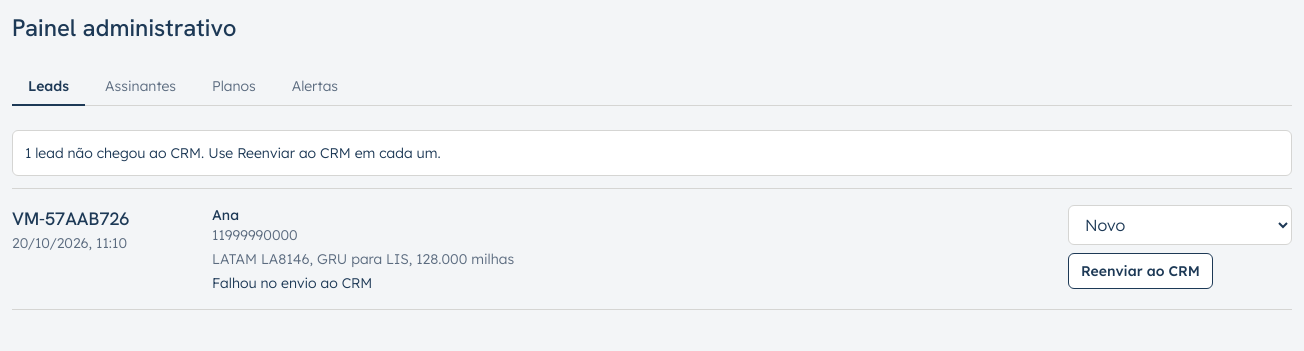
Test: Admin › mostra o erro do reenvio
Click the button "Reenviar ao CRM": coordinates (1140, 271) [1068,253,1213,289]
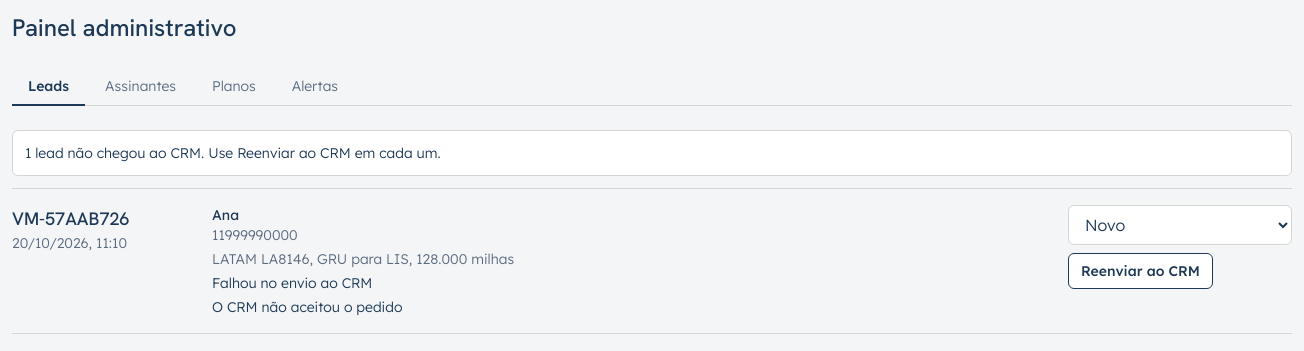
Check: the text "O CRM não aceitou o pedido" is shown, box [212,298,402,316]
